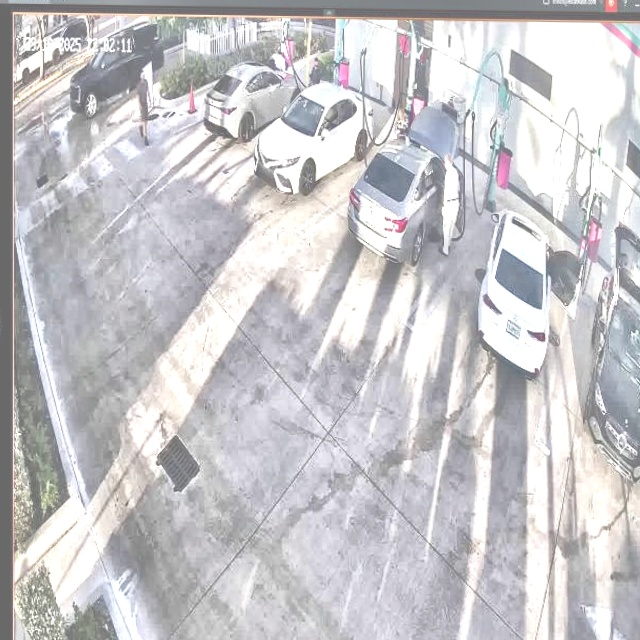Car: (476, 209, 583, 380), (349, 105, 464, 264), (257, 84, 375, 200), (204, 65, 303, 141)
